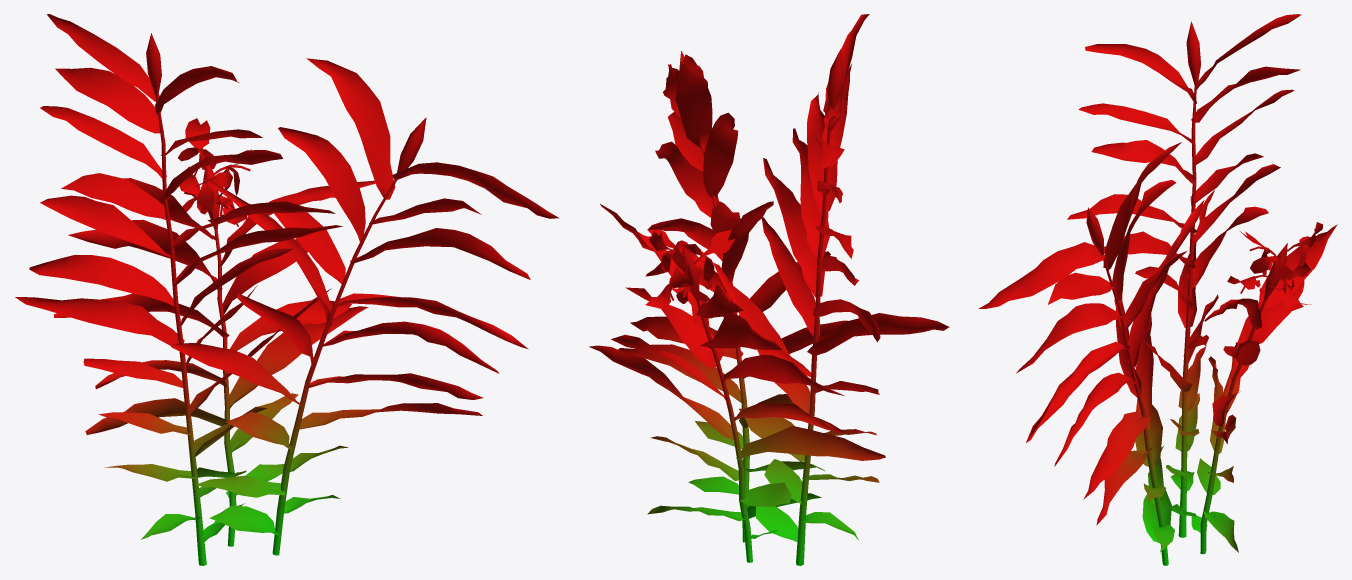
Rendered from F01_GingerLily_02.fbx.
3 renders of one model, left to right at view 1: azimuth 30°, elevation 25°; view 2: azimuth 150°, elevation 25°; view 3: azimuth 270°, elevation 25°, orthographic. The views are drawn at different scales.
Visible parts, largest first — view 1: _cc66_Var2_LOD0; view 2: _cc66_Var2_LOD0; view 3: _cc66_Var2_LOD0.
Boxes of the visible parts, x1,y1,x2,y2 form: _cc66_Var2_LOD0: (15, 14, 559, 565); _cc66_Var2_LOD0: (589, 14, 949, 565); _cc66_Var2_LOD0: (978, 14, 1337, 565).
Bounding box in the file's own units: 98.51 × 122 × 80.52.
